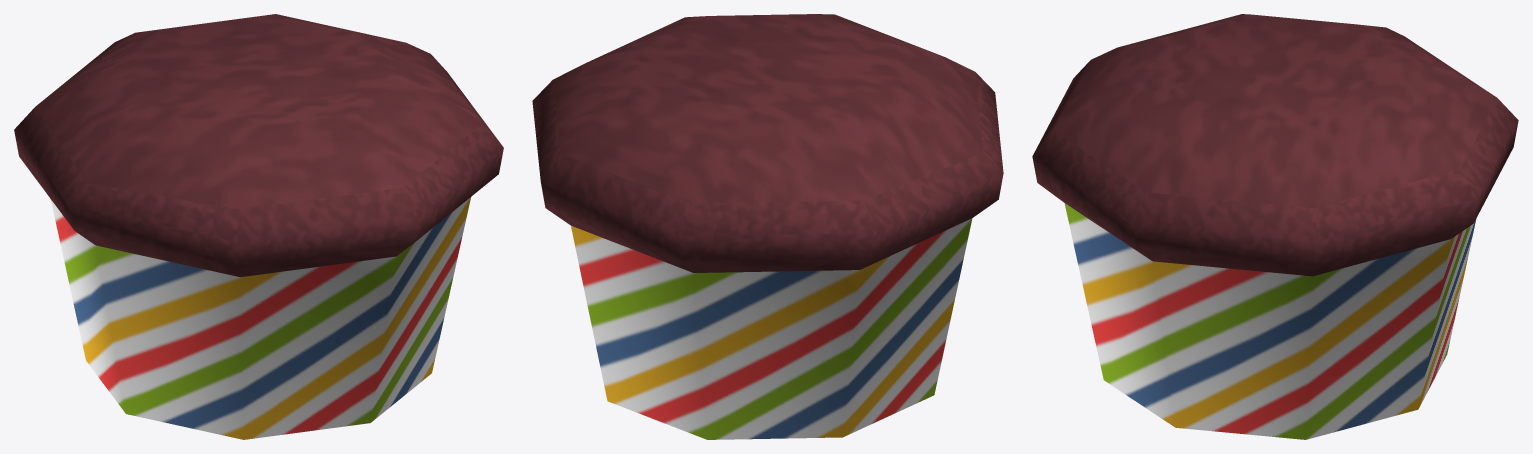
The model's file is Muffin_Plain_03.FBX.
3 views of the same model, side by side, from view 1: azimuth 30°, elevation 25°; view 2: azimuth 150°, elevation 25°; view 3: azimuth 270°, elevation 25° (orthographic).
Visible parts, largest first — view 1: Muffin_B; view 2: Muffin_B; view 3: Muffin_B.
Part boxes in pixels (box(x1,y1,x2,y2)): Muffin_B: box(14, 14, 503, 439); Muffin_B: box(532, 14, 1003, 439); Muffin_B: box(1032, 14, 1518, 439).
Size of the model in its own units: 36.61 by 24.52 by 36.61.
